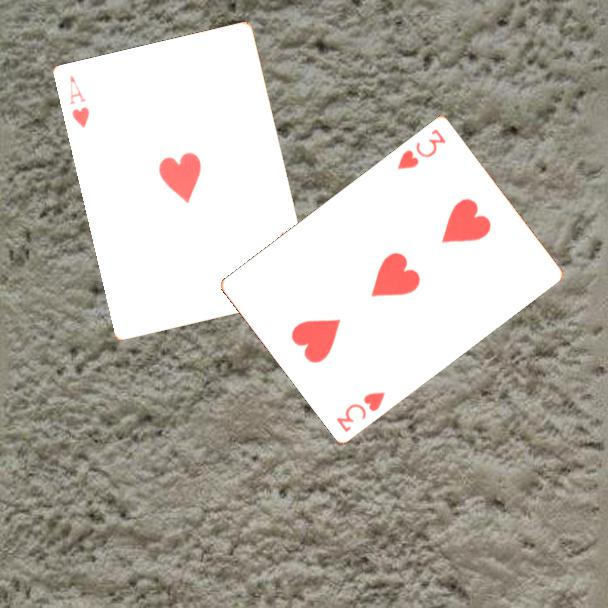h01: (66, 72, 93, 131)
h03: (393, 125, 449, 172), (332, 388, 388, 435)
